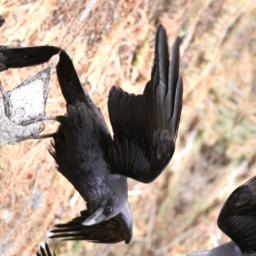Crow: (0, 0, 245, 256)
